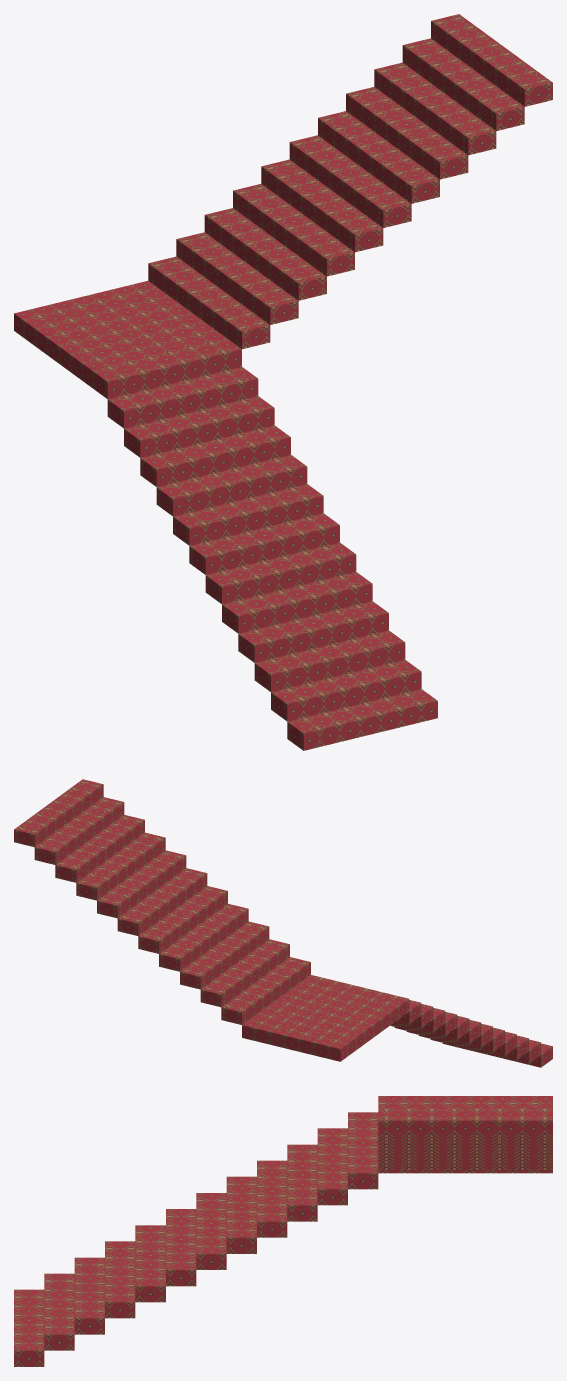
Rendered from StairsToSecondFloor.fbx.
3 renders of one model, top to bottom at view 1: azimuth 30°, elevation 25°; view 2: azimuth 150°, elevation 25°; view 3: azimuth 270°, elevation 25°, orthographic. The views are drawn at different scales.
Parts seen in each view (by area): view 1: StairsToSecondFloor, Cube.006, Stair Floor; view 2: Cube.006, Stair Floor, StairsToSecondFloor; view 3: StairsToSecondFloor, Cube.006, Stair Floor.
Boxes of the visible parts, bbox=[...] form: StairsToSecondFloor: bbox=[91, 337, 437, 750]; Cube.006: bbox=[148, 14, 552, 349]; Stair Floor: bbox=[14, 281, 225, 386]; Cube.006: bbox=[14, 779, 310, 1024]; Stair Floor: bbox=[242, 983, 397, 1061]; StairsToSecondFloor: bbox=[299, 975, 552, 1067]; StairsToSecondFloor: bbox=[14, 1096, 408, 1366]; Cube.006: bbox=[378, 1108, 552, 1169]; Stair Floor: bbox=[408, 1096, 552, 1173].
Bounding box in the file's own units: 761 × 680 × 858.
